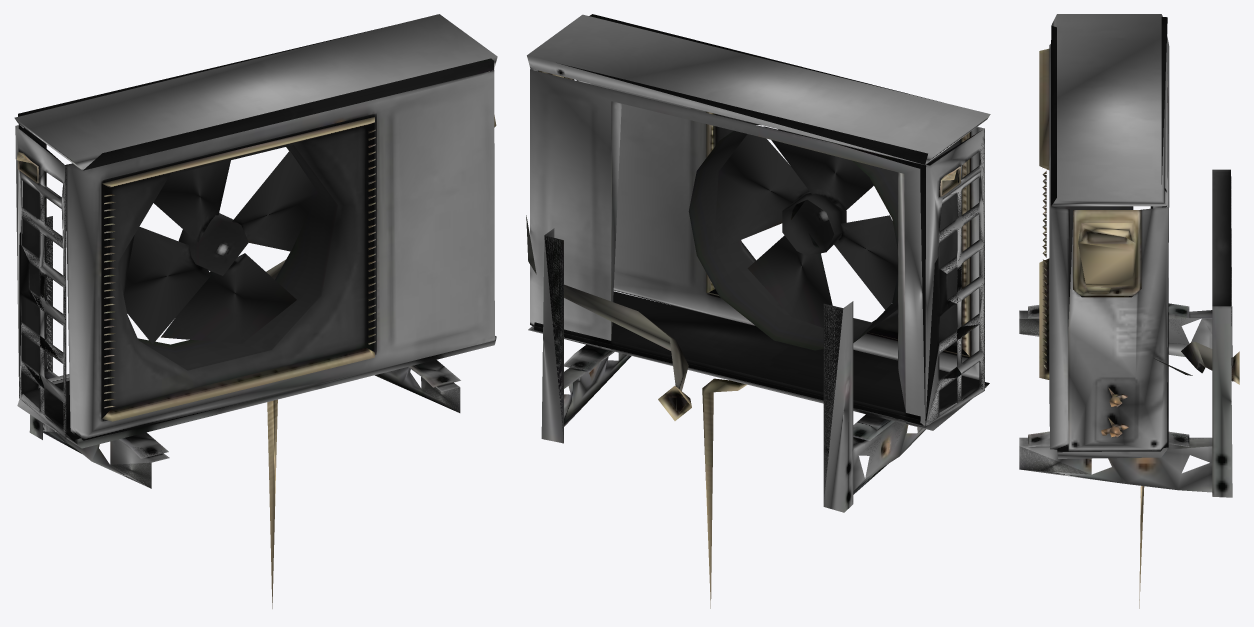
The model's file is exterior_aircon_unit.glb.
3 views of the same model, side by side, from view 1: azimuth 30°, elevation 25°; view 2: azimuth 150°, elevation 25°; view 3: azimuth 270°, elevation 25° (orthographic). The views are drawn at different scales.
Visible parts, largest first — view 1: exterior_aircon_unit; view 2: exterior_aircon_unit; view 3: exterior_aircon_unit.
Part boxes in pixels (<box>): exterior_aircon_unit: <box>14,14,497,608</box>; exterior_aircon_unit: <box>526,14,990,608</box>; exterior_aircon_unit: <box>1019,14,1239,608</box>.
Size of the model in its own units: 0.7961 by 0.9214 by 0.3742.
1 material, 1 textured.
